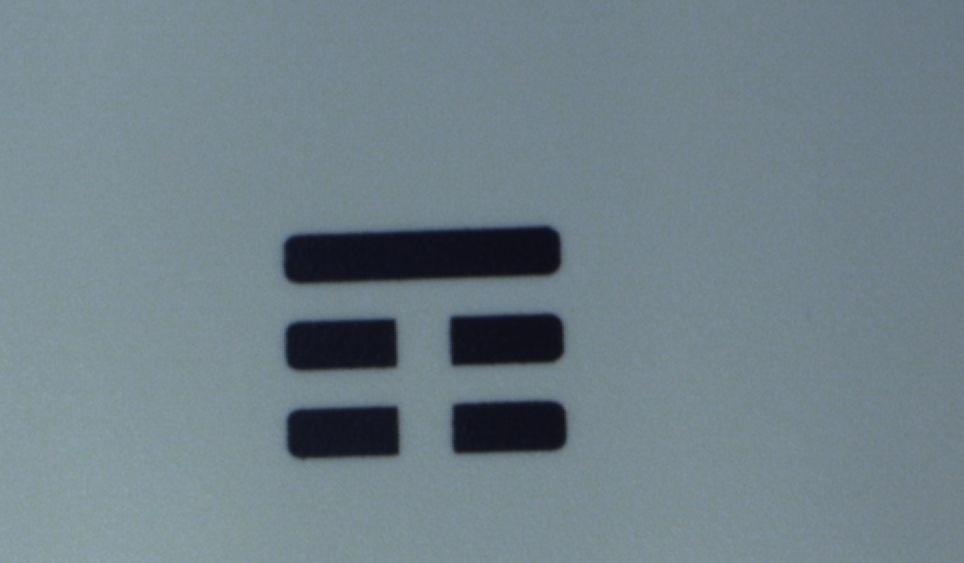BV_F6600PTIM: (259, 208, 585, 479)
